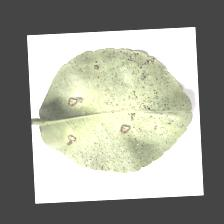canker: (92, 56, 168, 148)
